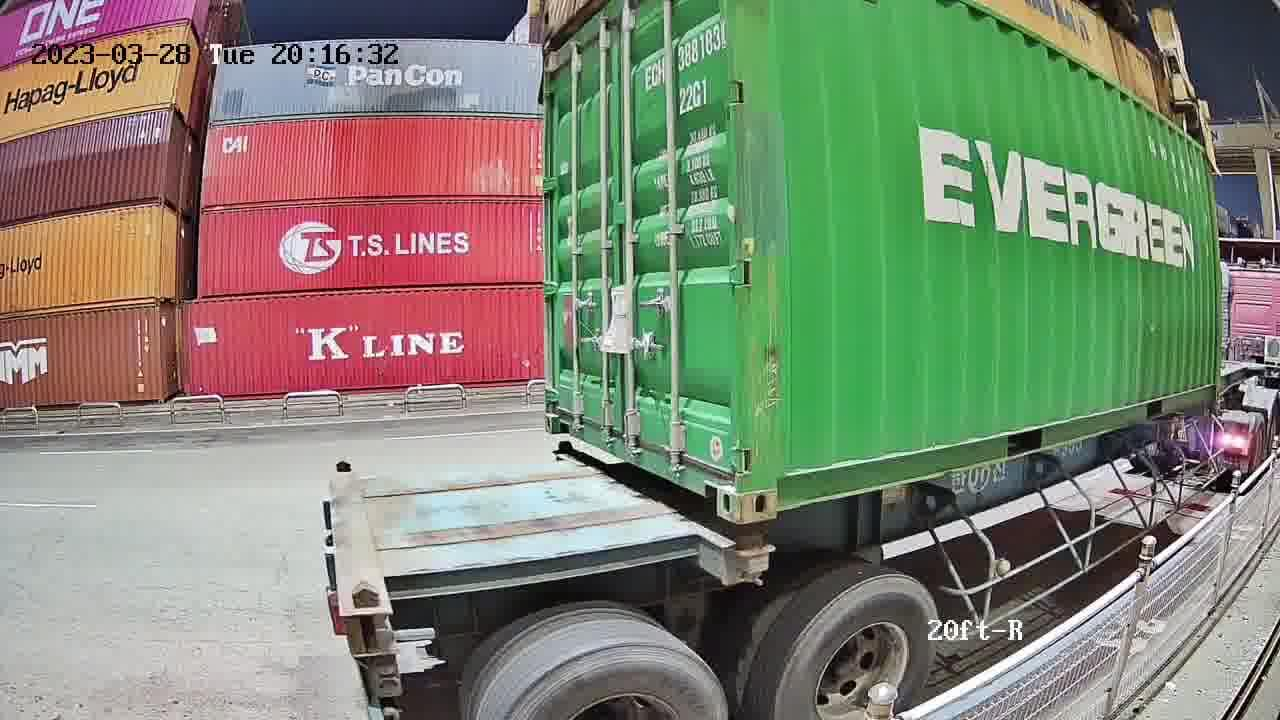Chassis: (555, 450, 766, 583)
Cone: (737, 528, 770, 586), (557, 441, 573, 454)
Hole_L: (744, 435, 803, 526), (544, 391, 581, 440)
Hole_R: (687, 427, 740, 524)
Tire: (773, 576, 938, 712), (502, 636, 723, 714)
